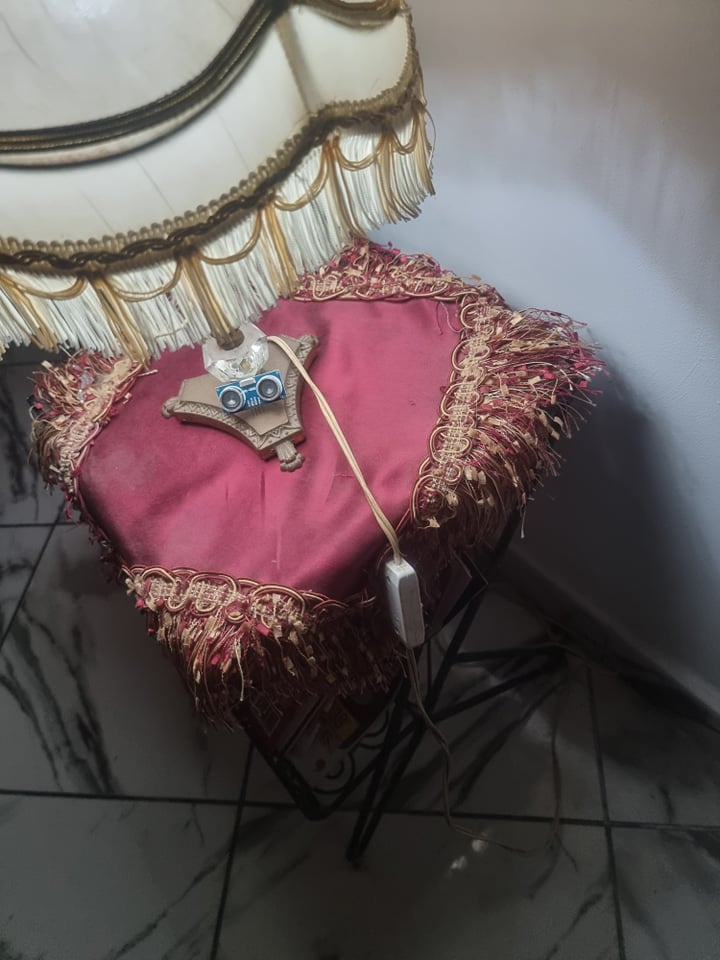SENSOR: (214, 370, 289, 415)
